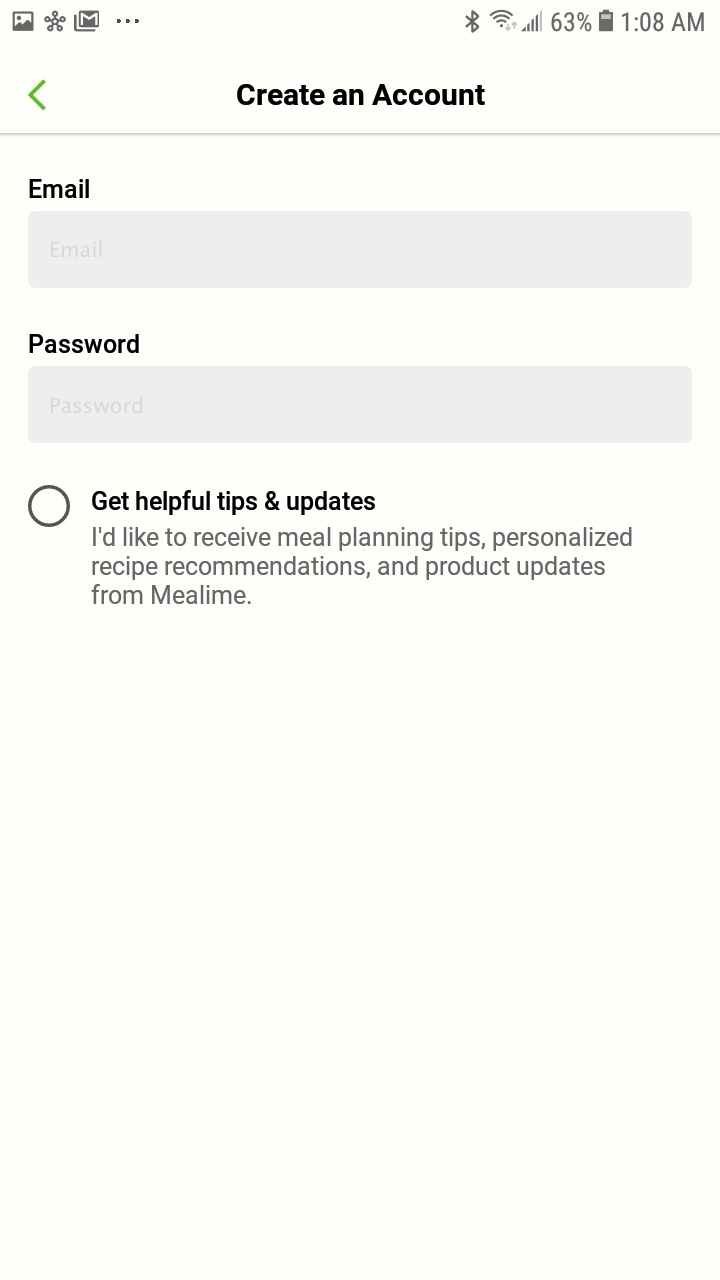CheckedTextView: (28, 485, 376, 528)
EditText: (29, 366, 693, 444), (29, 211, 693, 289)
Icon: (29, 79, 48, 111)
Text: (92, 526, 633, 605), (92, 490, 376, 516), (238, 84, 486, 106), (30, 334, 140, 354), (52, 397, 143, 414), (29, 179, 90, 199), (51, 242, 103, 258)
UpperTaskBar: (1, 1, 720, 35)
